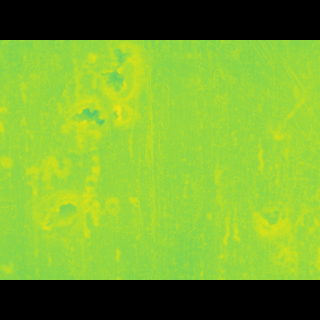Loch: (85, 72, 145, 116), (31, 188, 85, 218), (62, 117, 107, 145), (253, 191, 292, 215), (107, 118, 136, 135), (272, 223, 294, 242)
